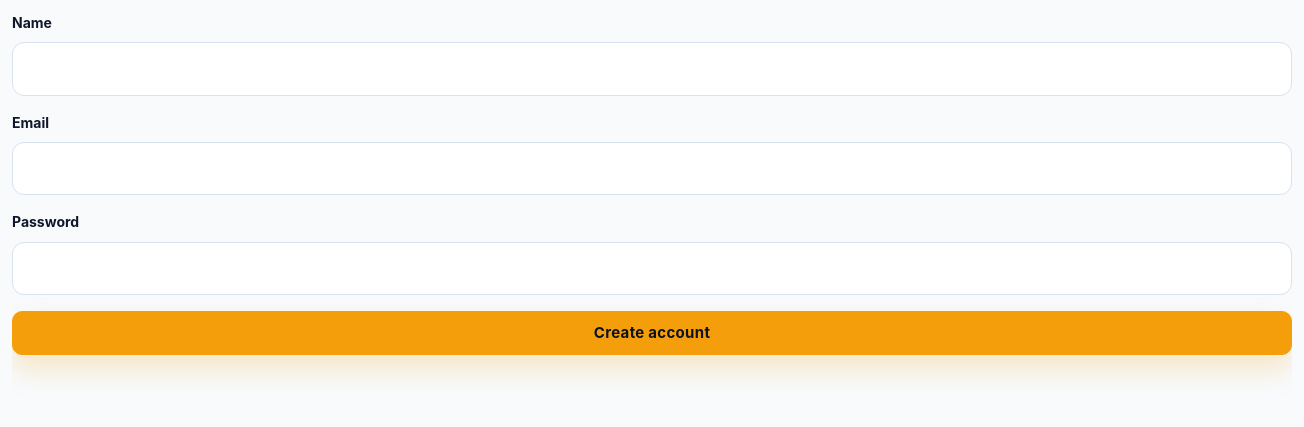
Test: rate limit guidance for {"key":"signup","props":{"registrationOpen":true},"_owner":null,"_store":{}}
The image size is (1304, 427).
In the field labelled "Name": (652, 69) [12, 42, 1292, 96], type "Person"
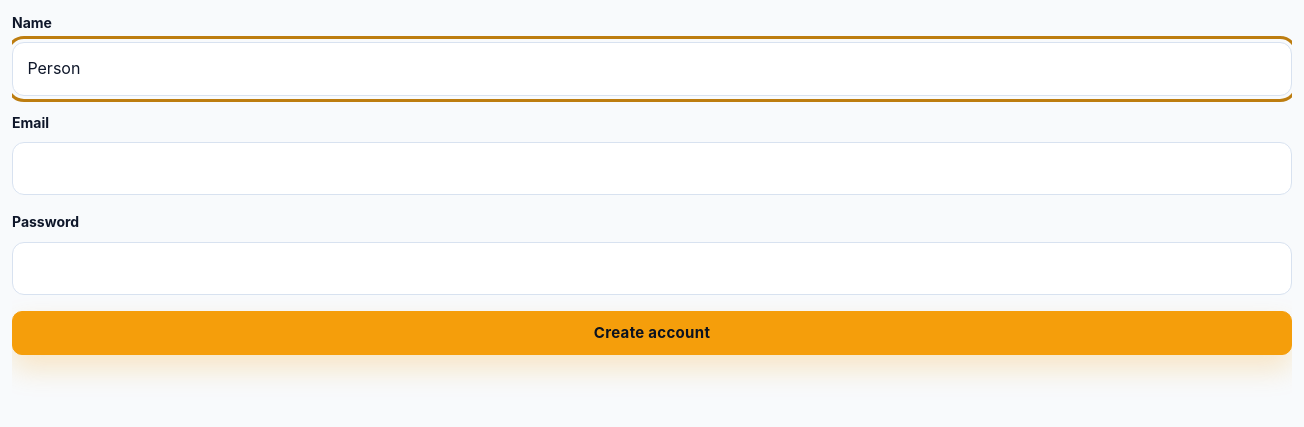
In the field labelled "Email": (652, 169) [12, 142, 1292, 195], type "test@example.com"
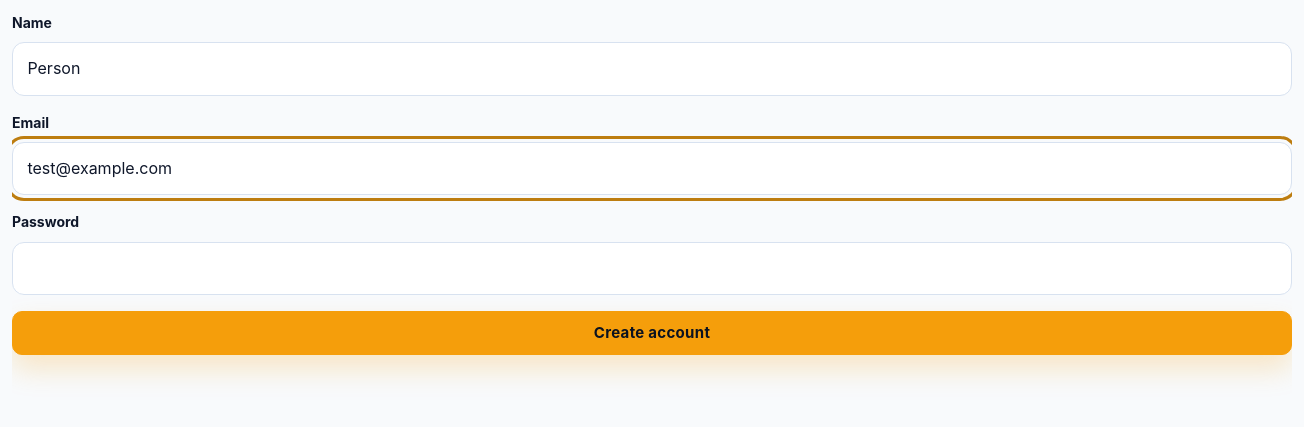
In the password field labelled "Password": (652, 268) [12, 242, 1292, 295], type "correct horse battery staple"
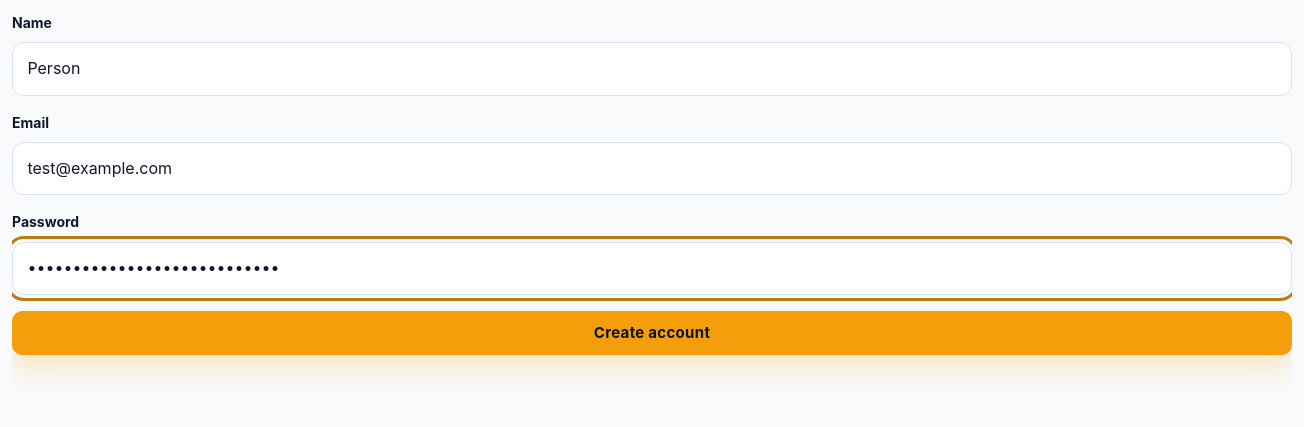
Click the button "Create account": (652, 333) [12, 311, 1292, 355]
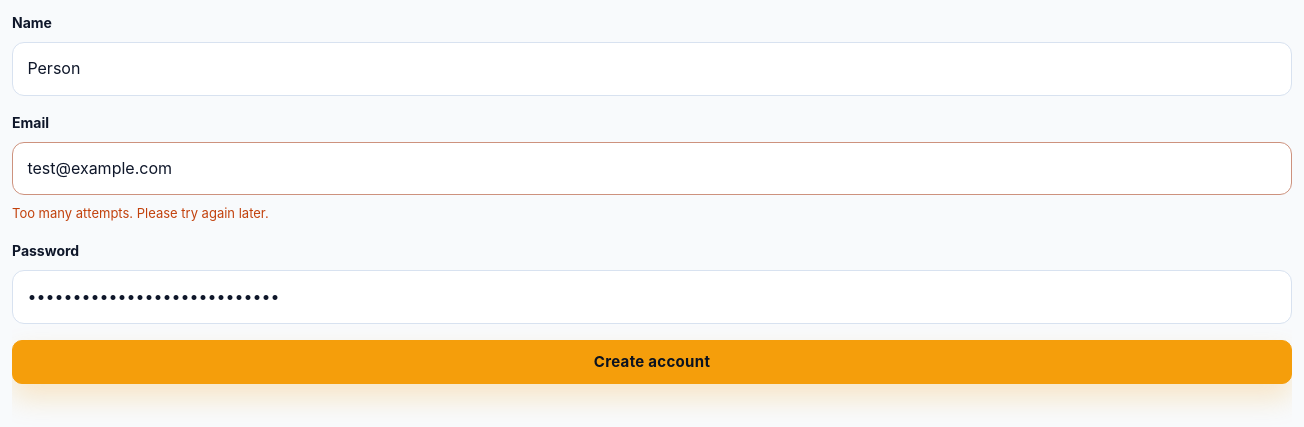
Expected: the message does not show "private", [12, 205, 269, 221]
Expected: the message shows "Too many attempts", [12, 205, 269, 221]
